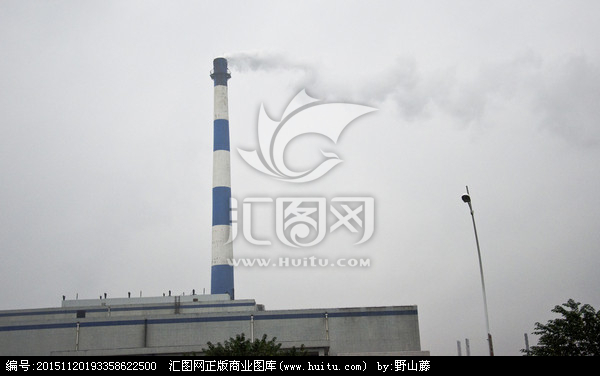dust: (192, 30, 360, 108)
